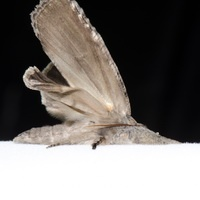insect: (13, 0, 178, 148), (14, 0, 136, 143)
